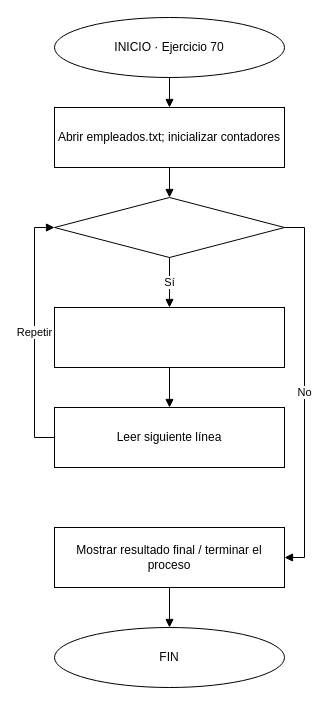
Some shapes in this 330 by 705 pixel diagram are drawn without their labels. The centre of each missing label's shape, as x and y in pixels:
"Leer registro; comprobar edad < 18 y sexo F" belongs at (169,337).
"¿Hay otra línea?" belongs at (169,227).
